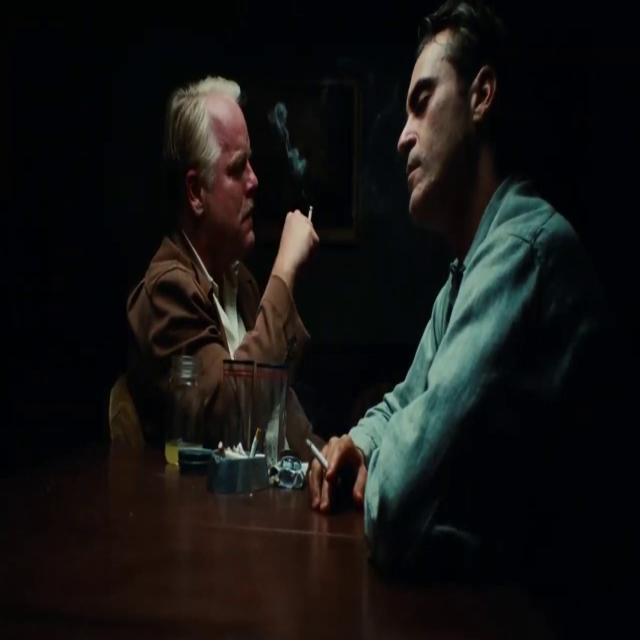Smooking: (304, 431, 330, 474), (302, 199, 315, 227)
